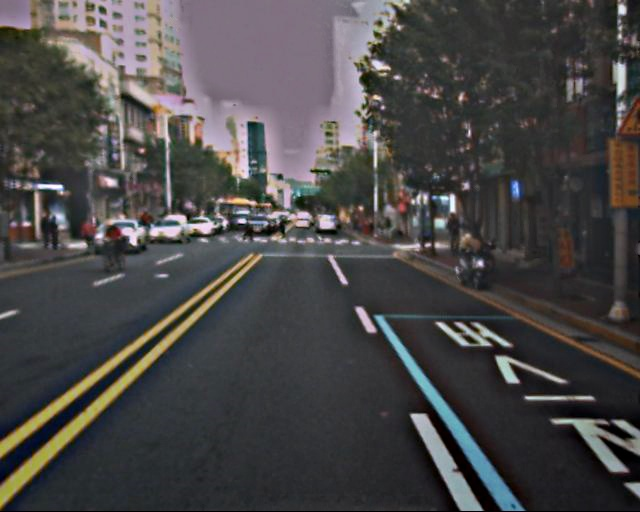person: (445, 211, 464, 257), (39, 217, 61, 250)
